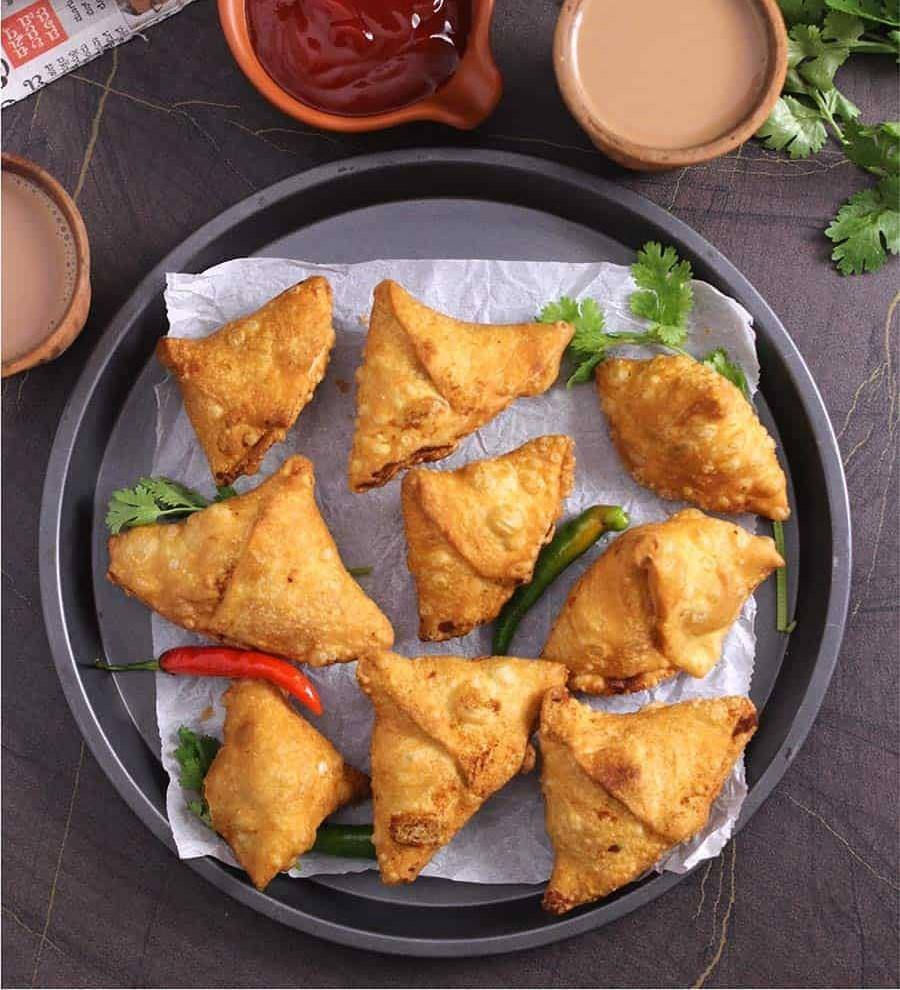Samosa: (106, 455, 401, 664), (528, 686, 781, 917), (357, 641, 566, 909), (331, 279, 578, 485), (542, 506, 788, 690), (399, 434, 578, 651), (143, 274, 339, 468), (591, 346, 810, 519), (203, 674, 366, 899)
